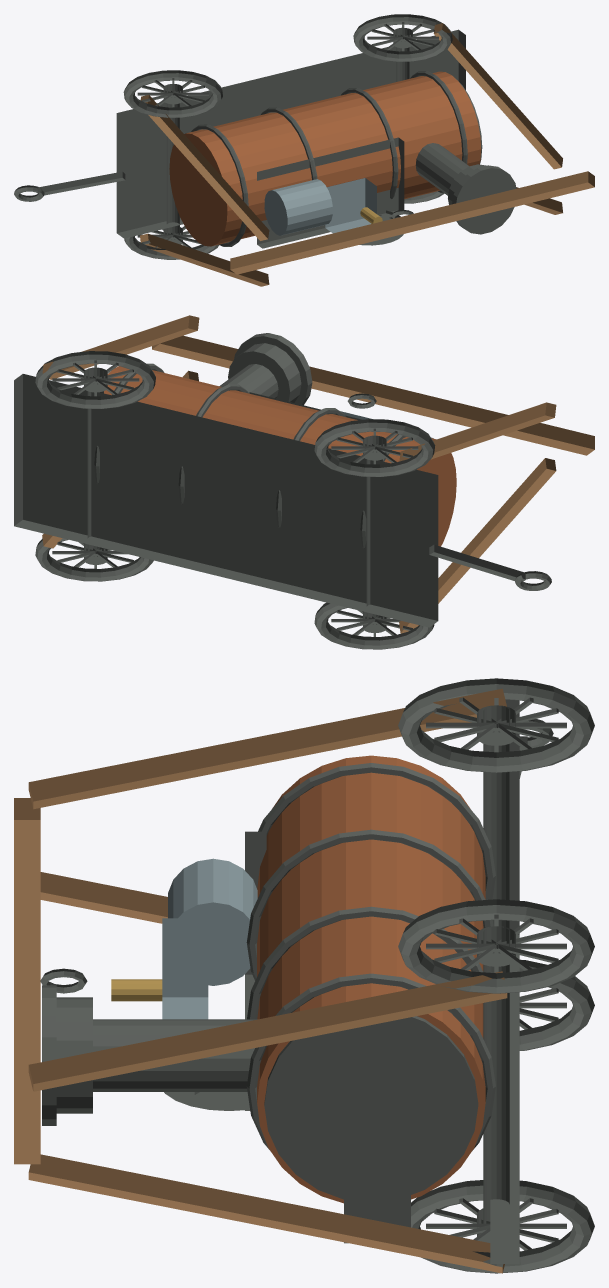
The model's file is steam.glb.
3 renders of one model, top to bottom at view 1: azimuth 30°, elevation 25°; view 2: azimuth 150°, elevation 25°; view 3: azimuth 270°, elevation 25°, orthographic. The views are drawn at different scales.
Visible parts, largest first — view 1: boiler_shell, chassis, gantry_top, steam_cylinder, engine_bed, gantry_leg_2.75_1.25, gantry_leg_-2.75_1.25, chimney_cap, wheel_rim_-2.25_1.27, wheel_rim_2.05_1.27, valve_chest, gantry_leg_-2.75_-1.25 (+10 smaller); view 2: chassis, boiler_shell, gantry_top, wheel_rim_-2.25_1.27, wheel_rim_2.05_1.27, gantry_leg_-2.75_-1.25, gantry_leg_-2.75_1.25, chimney_flare, gantry_leg_2.75_1.25, wheel_rim_-2.25_-1.27, wheel_rim_2.05_-1.27, chimney_cap (+7 smaller); view 3: boiler_shell, front_plate, gantry_leg_2.75_-1.25, gantry_leg_2.75_1.25, gantry_leg_-2.75_1.25, gantry_top, wheel_rim_2.05_1.27, wheel_rim_-2.25_1.27, chimney_lower, steam_cylinder, chassis, wheel_rim_2.05_-1.27 (+15 smaller).
Part boxes in pixels (box(x1,y1,x2,y2)): boiler_shell: box(169, 71, 481, 246); chassis: box(116, 29, 465, 238); gantry_top: box(230, 171, 594, 274); steam_cylinder: box(264, 179, 332, 235); engine_bed: box(257, 137, 404, 248); gantry_leg_2.75_1.25: box(433, 23, 562, 169); gantry_leg_-2.75_1.25: box(140, 95, 269, 240); chimney_cap: box(452, 165, 516, 234); wheel_rim_-2.25_1.27: box(123, 70, 222, 117); wheel_rim_2.05_1.27: box(353, 14, 452, 61); valve_chest: box(325, 178, 376, 233); gantry_leg_-2.75_-1.25: box(140, 233, 269, 286); chassis: box(14, 374, 438, 627); boiler_shell: box(104, 366, 456, 546); gantry_top: box(152, 335, 594, 455); wheel_rim_-2.25_1.27: box(314, 419, 435, 476); wheel_rim_2.05_1.27: box(35, 351, 155, 408); gantry_leg_-2.75_-1.25: box(399, 458, 556, 633); gantry_leg_-2.75_1.25: box(399, 402, 556, 461); chimney_flare: box(228, 343, 301, 402); gantry_leg_2.75_1.25: box(42, 315, 199, 379); wheel_rim_-2.25_-1.27: box(314, 602, 434, 649); wheel_rim_2.05_-1.27: box(35, 536, 153, 581); chimney_cap: box(234, 333, 312, 405); boiler_shell: box(257, 755, 485, 1203); front_plate: box(264, 1016, 478, 1202); gantry_leg_2.75_-1.25: box(28, 1154, 504, 1273); gantry_leg_2.75_1.25: box(28, 971, 507, 1091); gantry_leg_-2.75_1.25: box(28, 688, 506, 809); gantry_top: box(14, 798, 40, 1164); wheel_rim_2.05_1.27: box(398, 899, 594, 993); wheel_rim_-2.25_1.27: box(398, 678, 594, 772); chimney_lower: box(93, 1019, 257, 1091); steam_cylinder: box(168, 858, 257, 985); chassis: box(490, 699, 519, 1263); wheel_rim_2.05_-1.27: box(411, 1180, 594, 1273).
Size of the model in its own units: 8.42 by 2.8 by 4.78.
